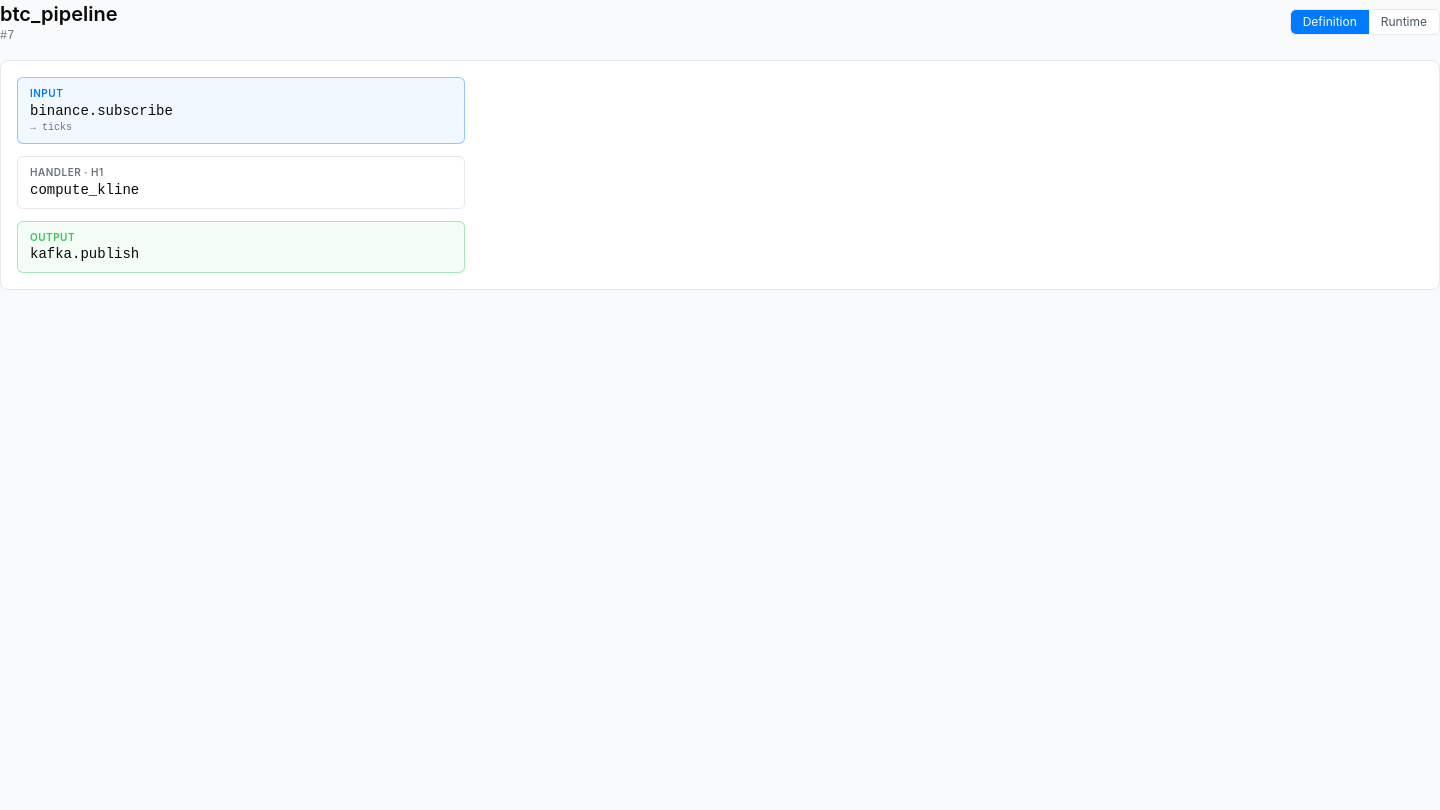
Test case: <PipelineDetail> › clicking the input node opens a drawer that fetches datasources
What coordinates should you click on to do the following:
click the button with aria-label "input node"
I would click on:
 (47, 93)
Its box is [17,77,465,144].
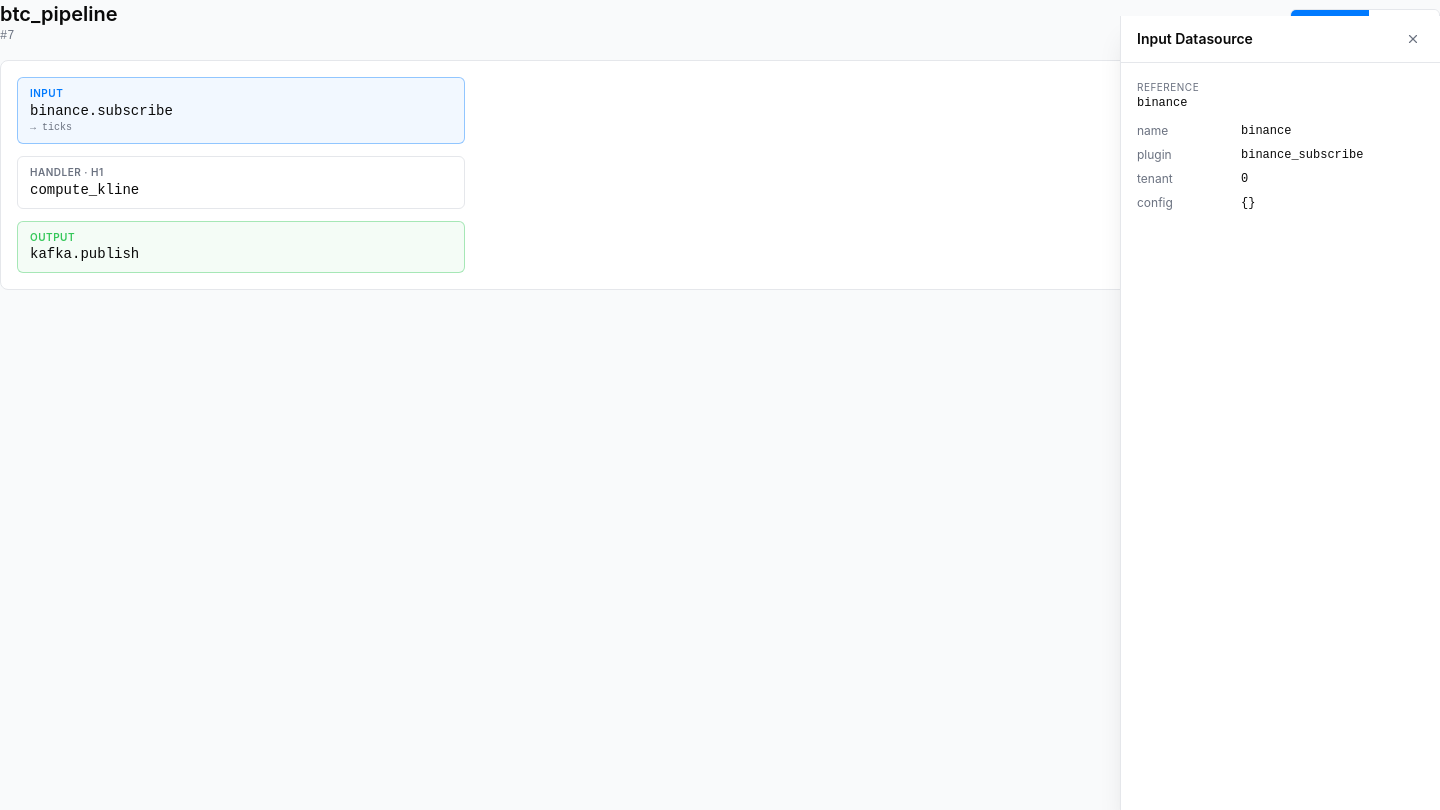
Now the dialog "Datasource" is shown, box [1120,16,1439,809]
